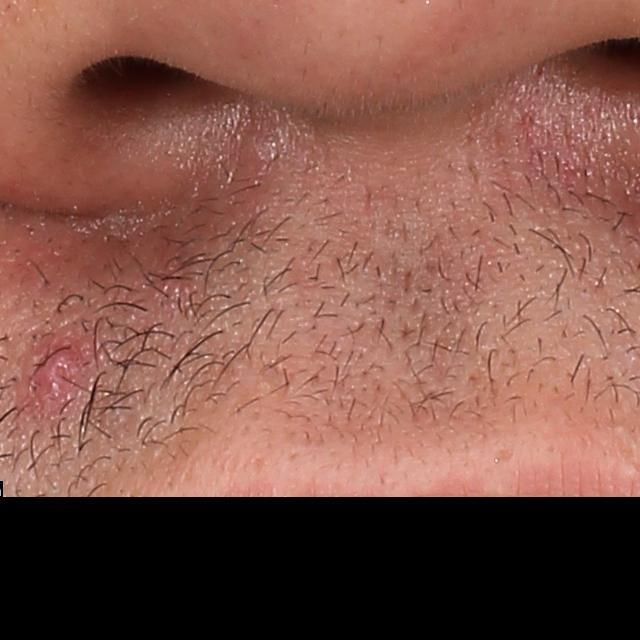papule: (28, 335, 92, 418)
